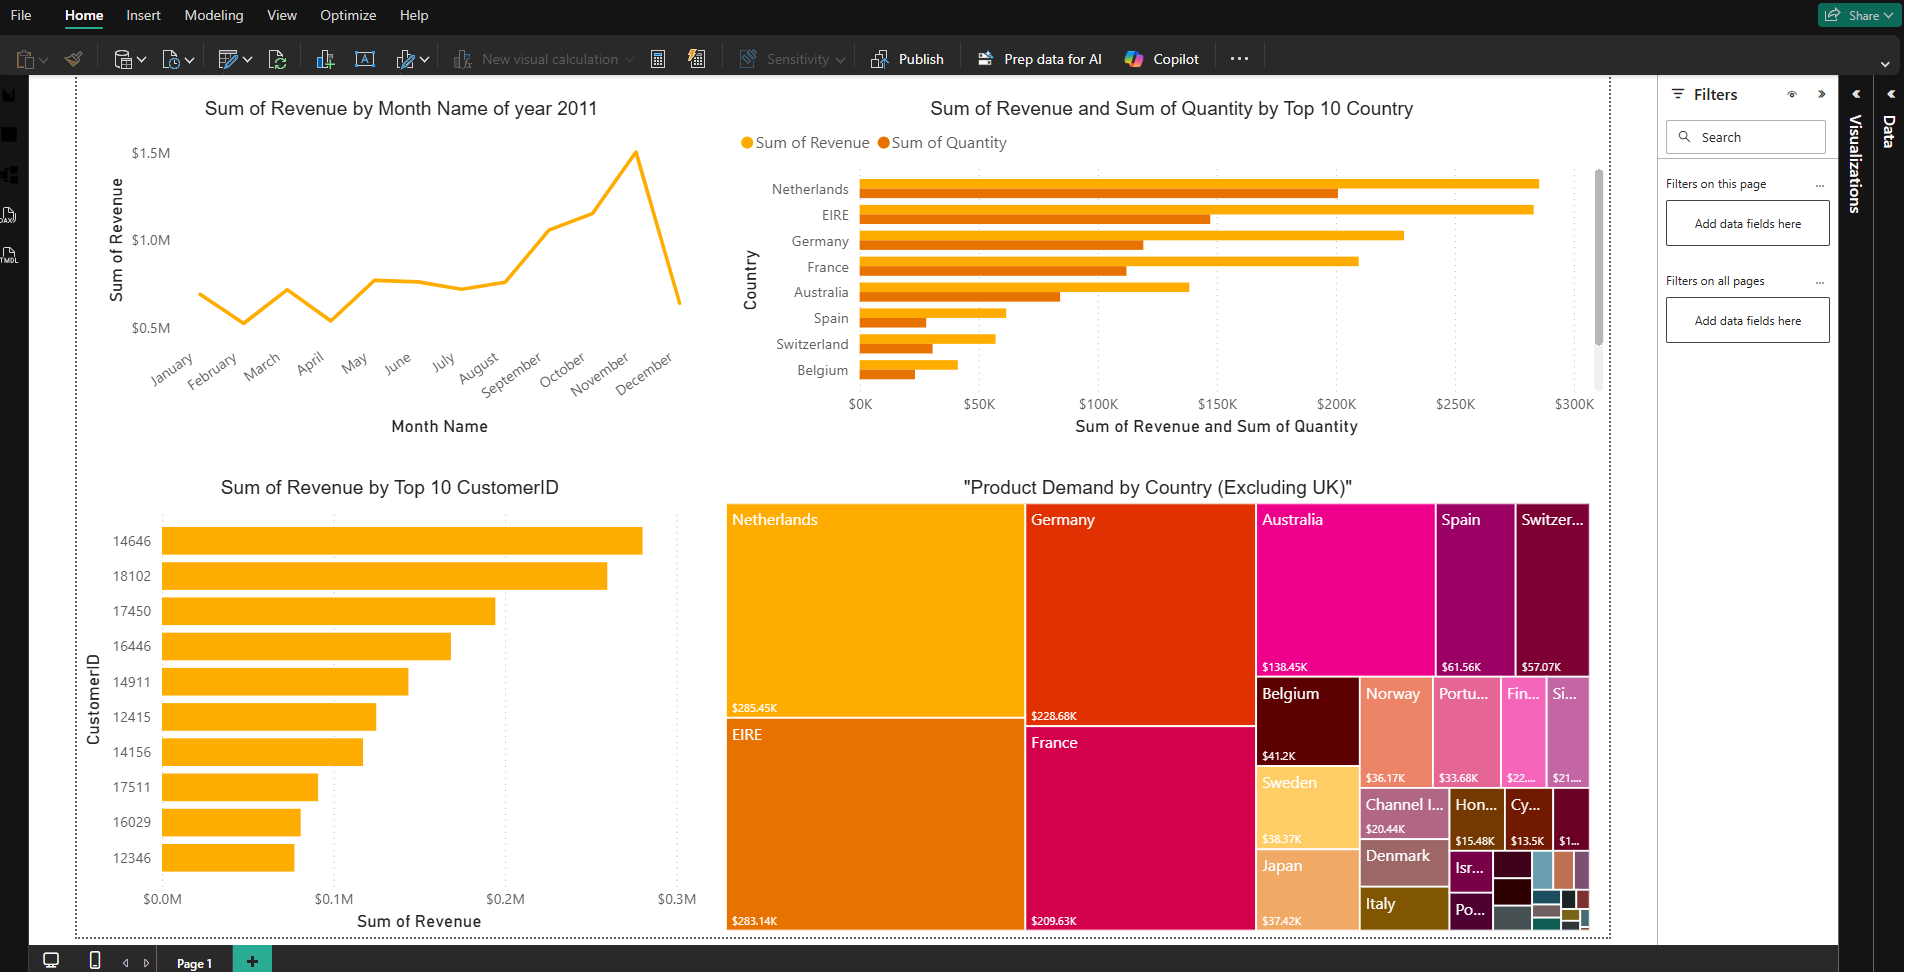

What the dashboard file says about the page in this screenshot:
{"tool":"powerbi","page":{"name":"Page 1","canvas":[1280,720],"ordinal":0},"visuals":[{"type":"lineChart","title":"Sum of Revenue by Month Name of year 2011","fields":{"Category":["Online Retail Data Set.Month Name"],"Y":["Sum(Online Retail Data Set.Revenue)"]},"box":[19,19,503.7,287.2],"z":0},{"type":"clusteredBarChart","title":"Sum of Revenue and Sum of Quantity by Top 10 Country","fields":{"Category":["Online Retail Data Set.Country"],"Y":["Sum(Online Retail Data Set.Revenue)","Sum(Online Retail Data Set.Quantity)"]},"box":[548.6,19,731.4,287.2],"z":1000},{"type":"clusteredBarChart","title":"Sum of Revenue by Top 10 CustomerID","fields":{"Category":["Online Retail Data Set.CustomerID"],"Y":["Sum(Online Retail Data Set.Revenue)"]},"box":[0,335.5,522.7,383.8],"z":2000},{"type":"treemap","title":"\"Product Demand by Country (Excluding UK)\"","fields":{"Group":["Online Retail Data Set.Country"],"Values":["Sum(Online Retail Data Set.Revenue)"]},"box":[537.4,335.5,731.4,383.8],"z":3000}]}

Visuals, with their boxes on the page's 1280x720 design canvas (x1, y1, x2, y2). These are canvas units, not pixel positions in the 1912x972 screenshot, which may show the page scaled, cropped or inside an application window:
"Sum of Revenue by Month Name of year 2011" lineChart: box=[19, 19, 523, 306]
"Sum of Revenue and Sum of Quantity by Top 10 Country" clusteredBarChart: box=[549, 19, 1280, 306]
"Sum of Revenue by Top 10 CustomerID" clusteredBarChart: box=[0, 336, 523, 719]
""Product Demand by Country (Excluding UK)"" treemap: box=[537, 336, 1269, 719]
